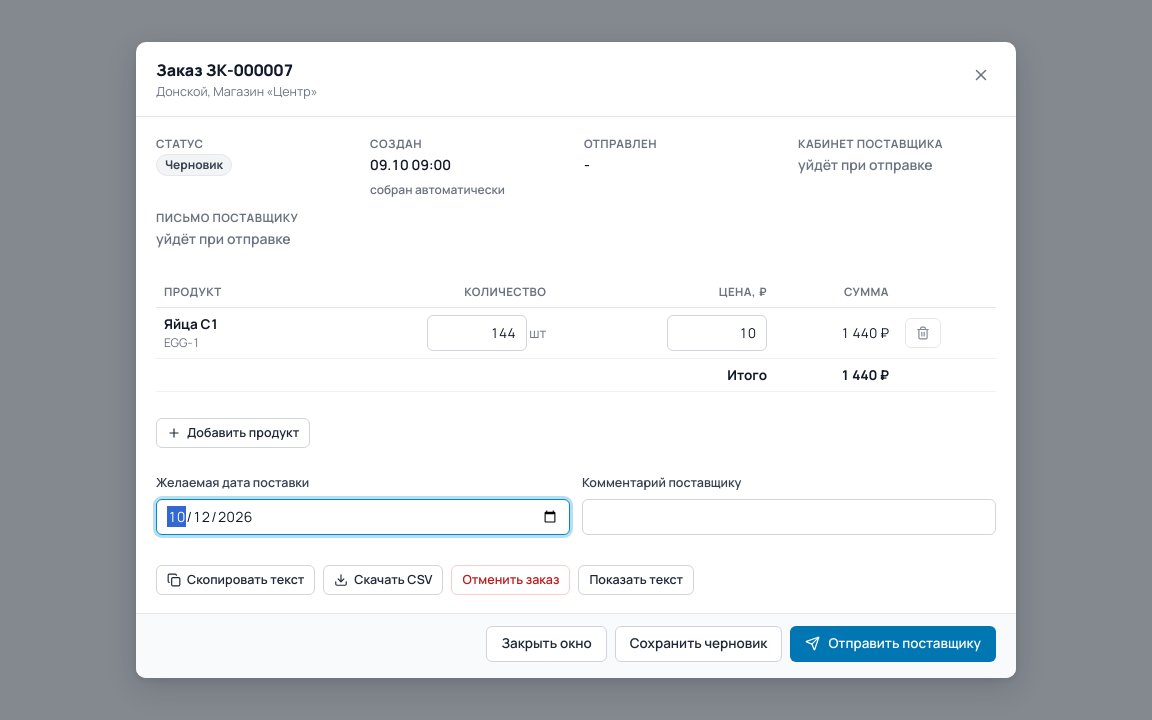
Scenario: черновик › неверное количество не уходит на сервер
This screenshot has width=1152, height=720.
Replace the text in the field named "Количество: Яйца С1" with "0": (477, 333) top-left (427, 315), bottom-right (527, 351)
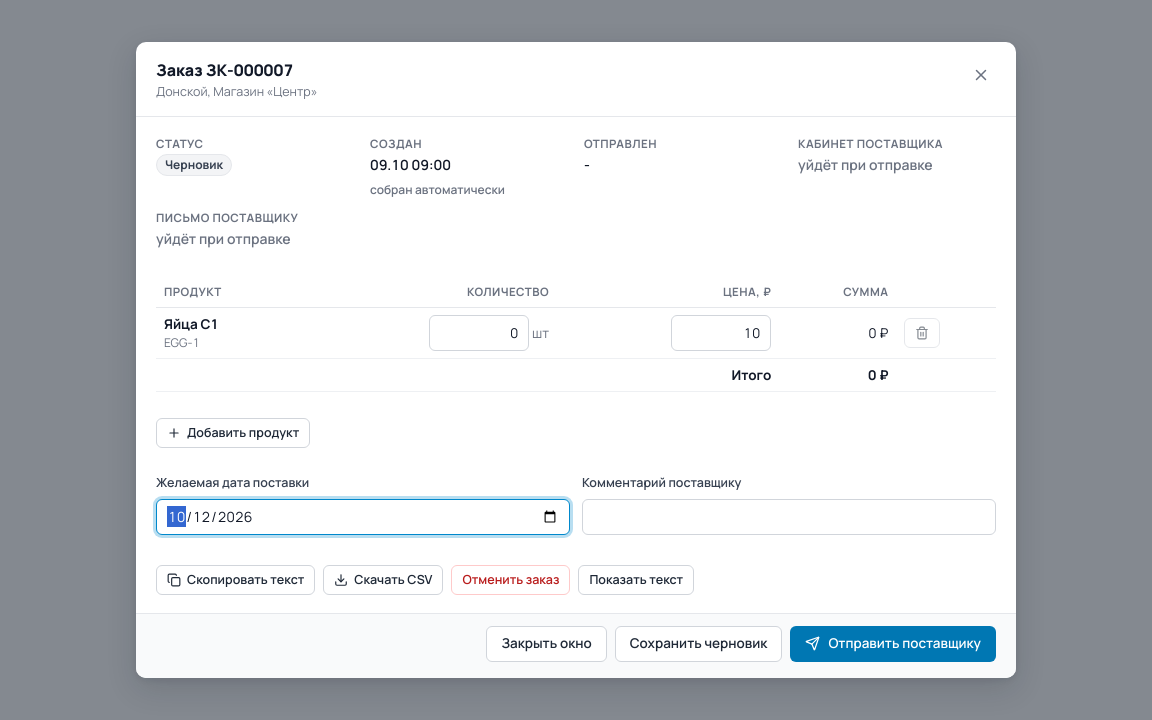
Click the button "Отправить поставщику": (893, 644) top-left (790, 626), bottom-right (996, 662)
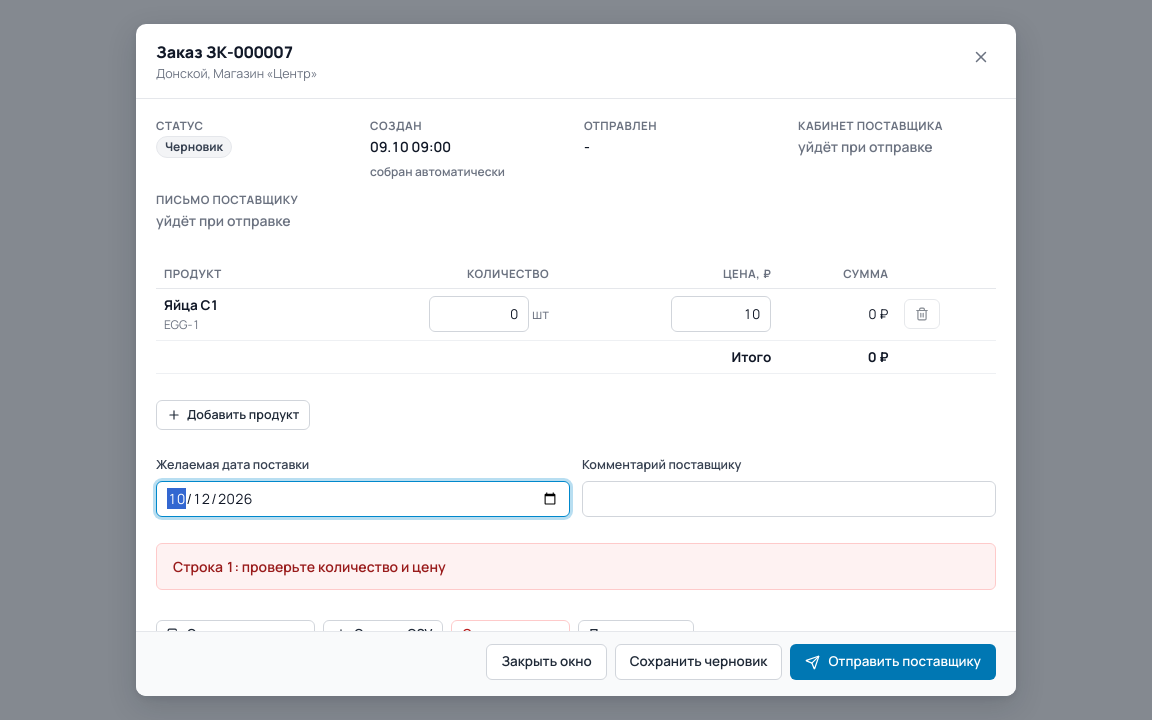
Now the text "Строка 1: проверьте количество и цену" is shown, box top-left (173, 556), bottom-right (446, 576)
